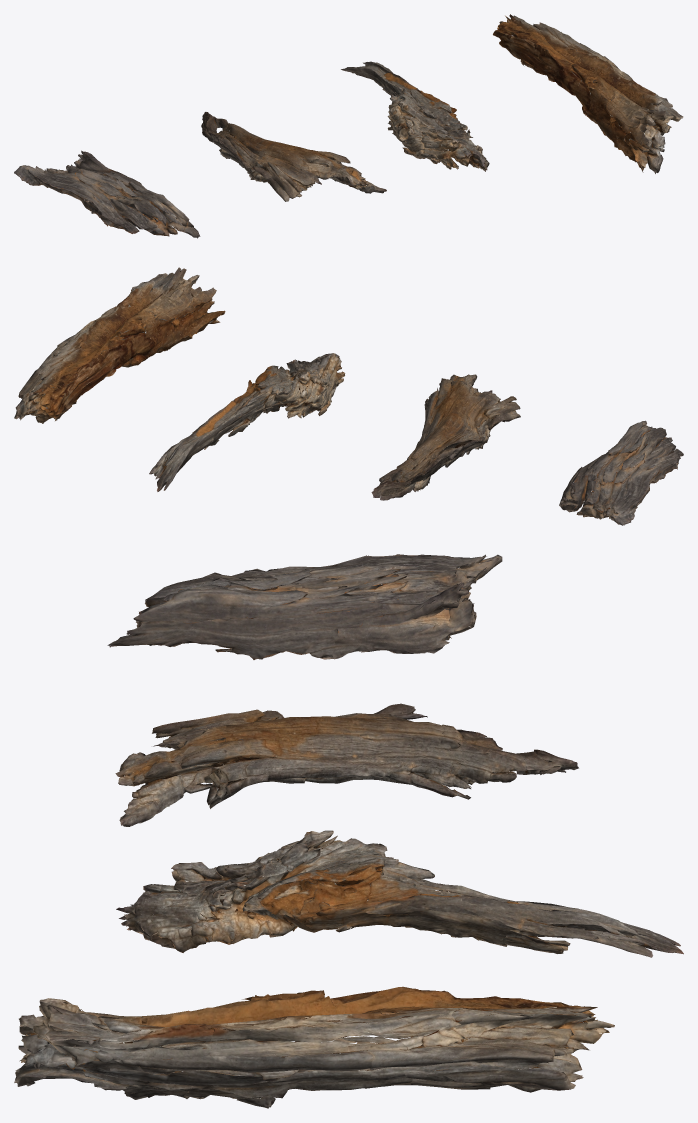
Rendered from bark_debris.glb.
The picture shows the model from 3 angles, top to bottom: view 1: azimuth 30°, elevation 25°; view 2: azimuth 150°, elevation 25°; view 3: azimuth 270°, elevation 25°; orthographic projection. The views are drawn at different scales.
Visible parts, largest first — view 1: bark_debris_01_d, bark_debris_01_a, bark_debris_01_b, bark_debris_01_c; view 2: bark_debris_01_d, bark_debris_01_b, bark_debris_01_c, bark_debris_01_a; view 3: bark_debris_01_d, bark_debris_01_c, bark_debris_01_a, bark_debris_01_b.
Boxes of the visible parts, x1,y1,x2,y2 form: bark_debris_01_d: (493,14,683,173); bark_debris_01_a: (14,150,200,238); bark_debris_01_b: (201,112,386,201); bark_debris_01_c: (341,61,489,171); bark_debris_01_d: (14,267,225,423); bark_debris_01_b: (371,374,520,500); bark_debris_01_c: (149,353,345,491); bark_debris_01_a: (559,420,683,525); bark_debris_01_d: (14,986,614,1108); bark_debris_01_c: (116,830,683,957); bark_debris_01_a: (107,554,502,659); bark_debris_01_b: (115,703,578,826).
Bounding box in the file's own units: 1.21 × 0.1123 × 0.6739.
Materials: 1 (1 with a texture image).
